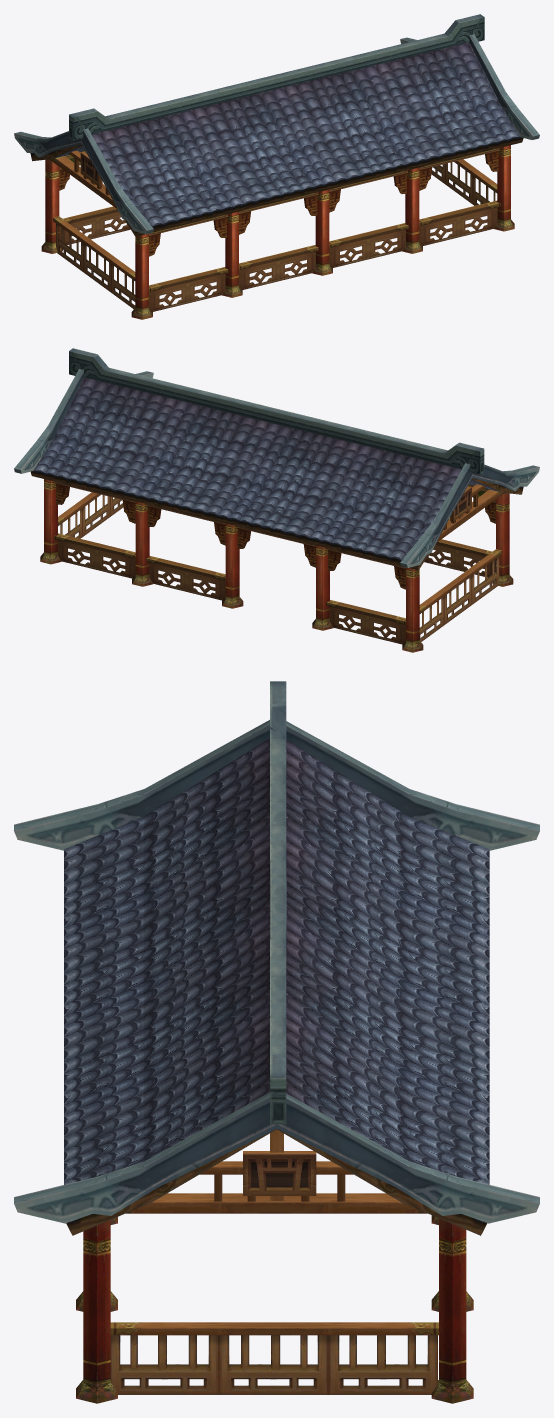
The model's file is szc_building_17a_liang.FBX.
3 views of the same model, one above another, from view 1: azimuth 30°, elevation 25°; view 2: azimuth 150°, elevation 25°; view 3: azimuth 270°, elevation 25° (orthographic). The views are drawn at different scales.
Visible parts, largest first — view 1: szc_building_changlang17a_liang; view 2: szc_building_changlang17a_liang; view 3: szc_building_changlang17a_liang.
Part boxes in pixels (box(x1,y1,x2,y2)): szc_building_changlang17a_liang: box(14, 14, 539, 319); szc_building_changlang17a_liang: box(14, 348, 539, 652); szc_building_changlang17a_liang: box(14, 681, 539, 1403).
Size of the model in its own units: 946 by 378 by 530.
